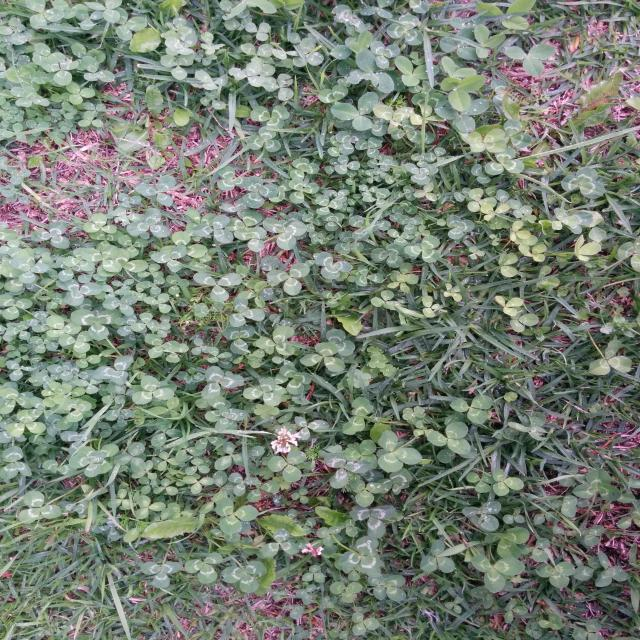Four Leaf Clover: (466, 128, 507, 153)
